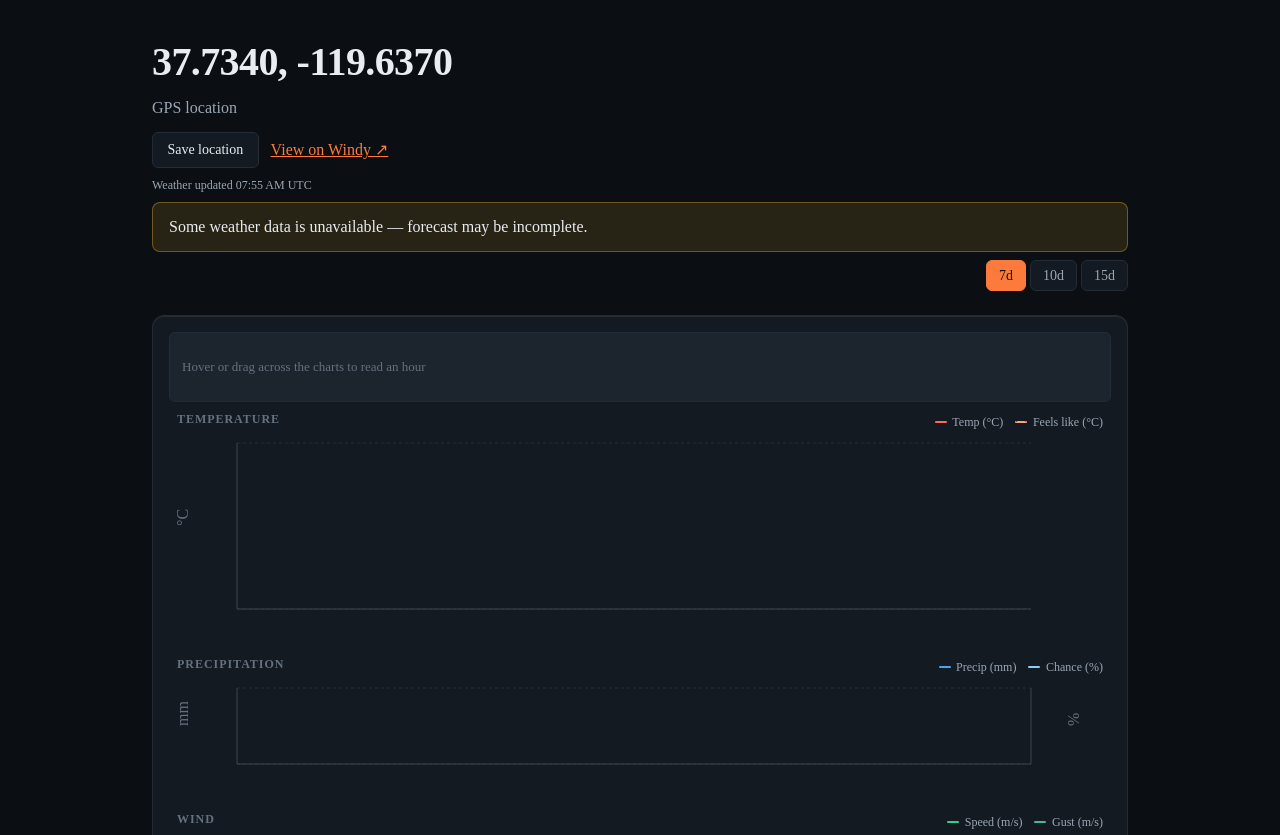
Test: GpsWeatherPage › updates the heading immediately after saving, without a page reload
expect the heading "37.7340, -119.6370" is shown: met, box x1=152 y1=39 x2=452 y2=84
Click the button "Save location".
click(205, 150)  # box x1=152 y1=132 x2=259 y2=168
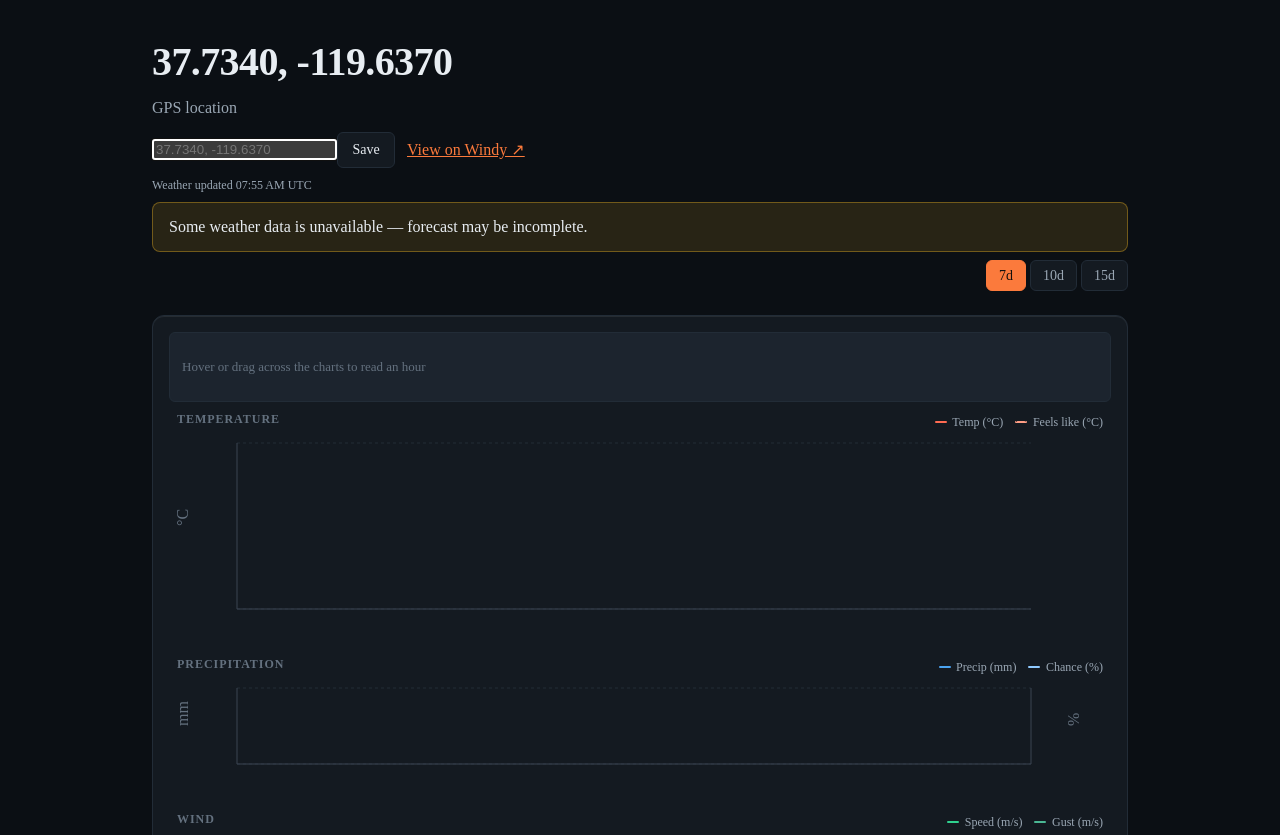
Type "Secret boulder" into the field named "location name".
click(244, 150); type("Secret boulder")  # box x1=152 y1=139 x2=337 y2=160
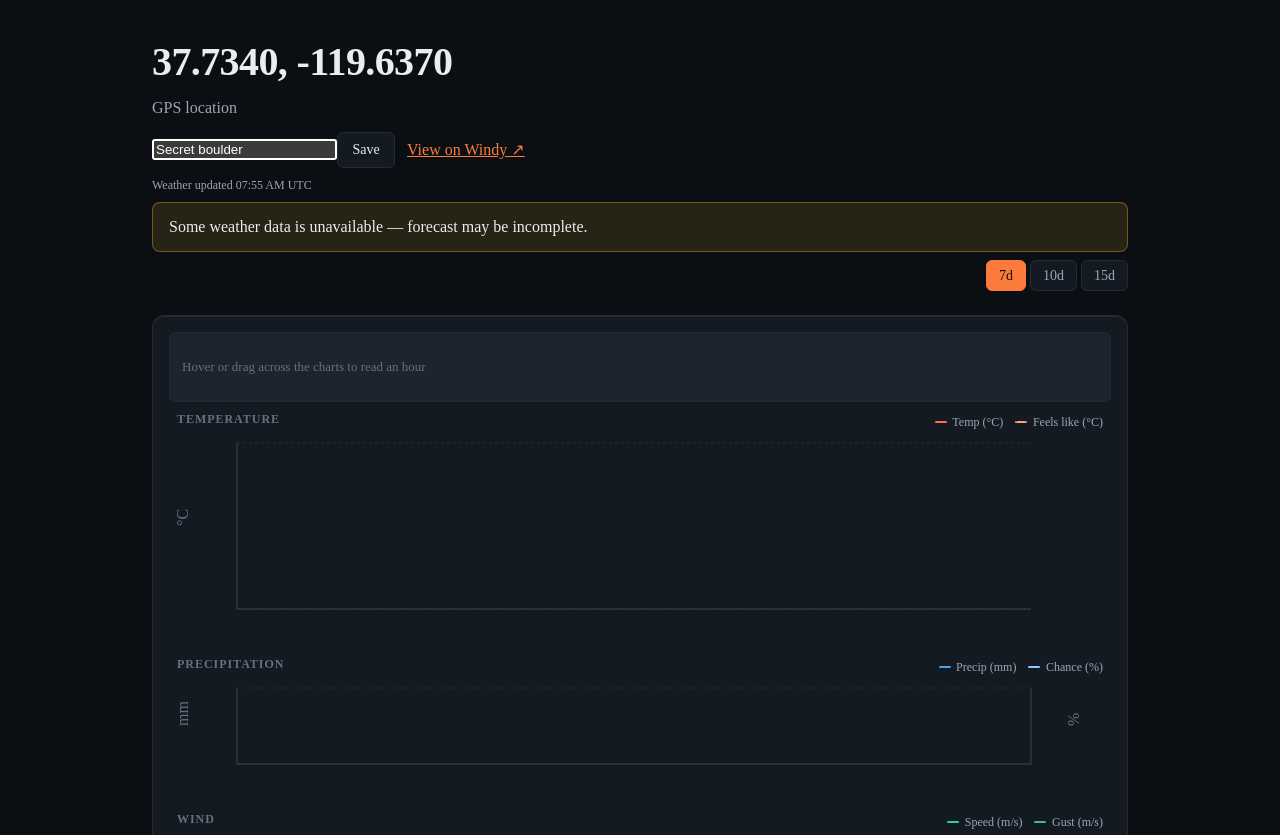
Click the button "Save".
click(366, 150)  # box x1=337 y1=132 x2=395 y2=168
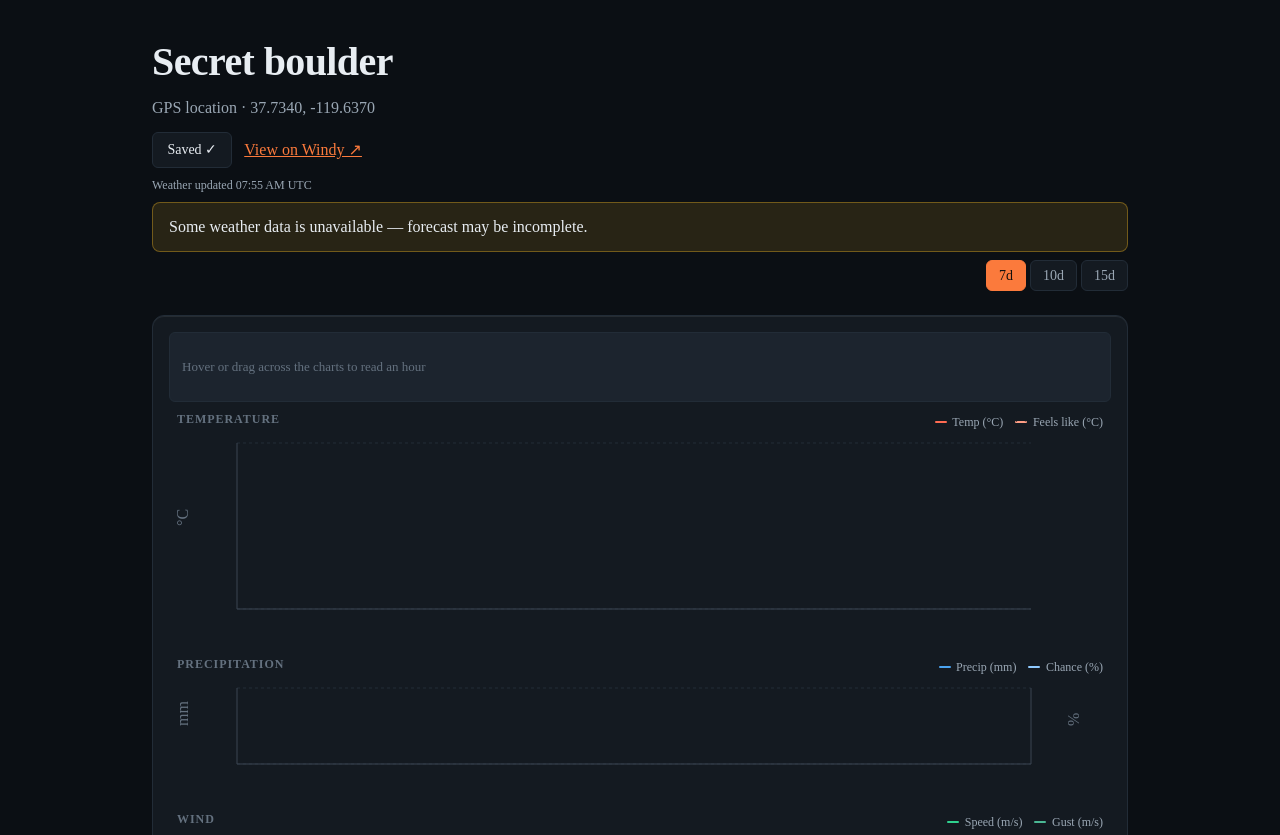
expect the heading "Secret boulder" is shown: met, box x1=152 y1=39 x2=393 y2=84
expect the text "· 37.7340, -119.6370" is shown: met, box x1=237 y1=99 x2=375 y2=116
